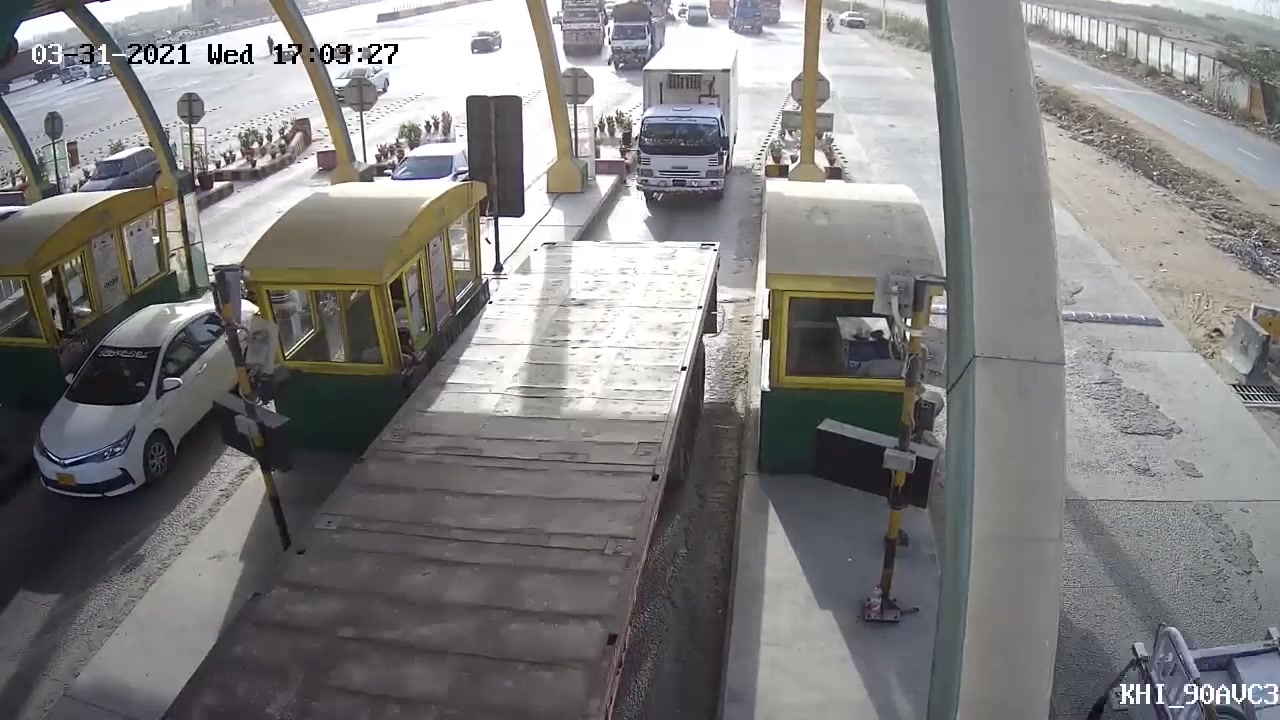F5: (626, 51, 742, 207)
